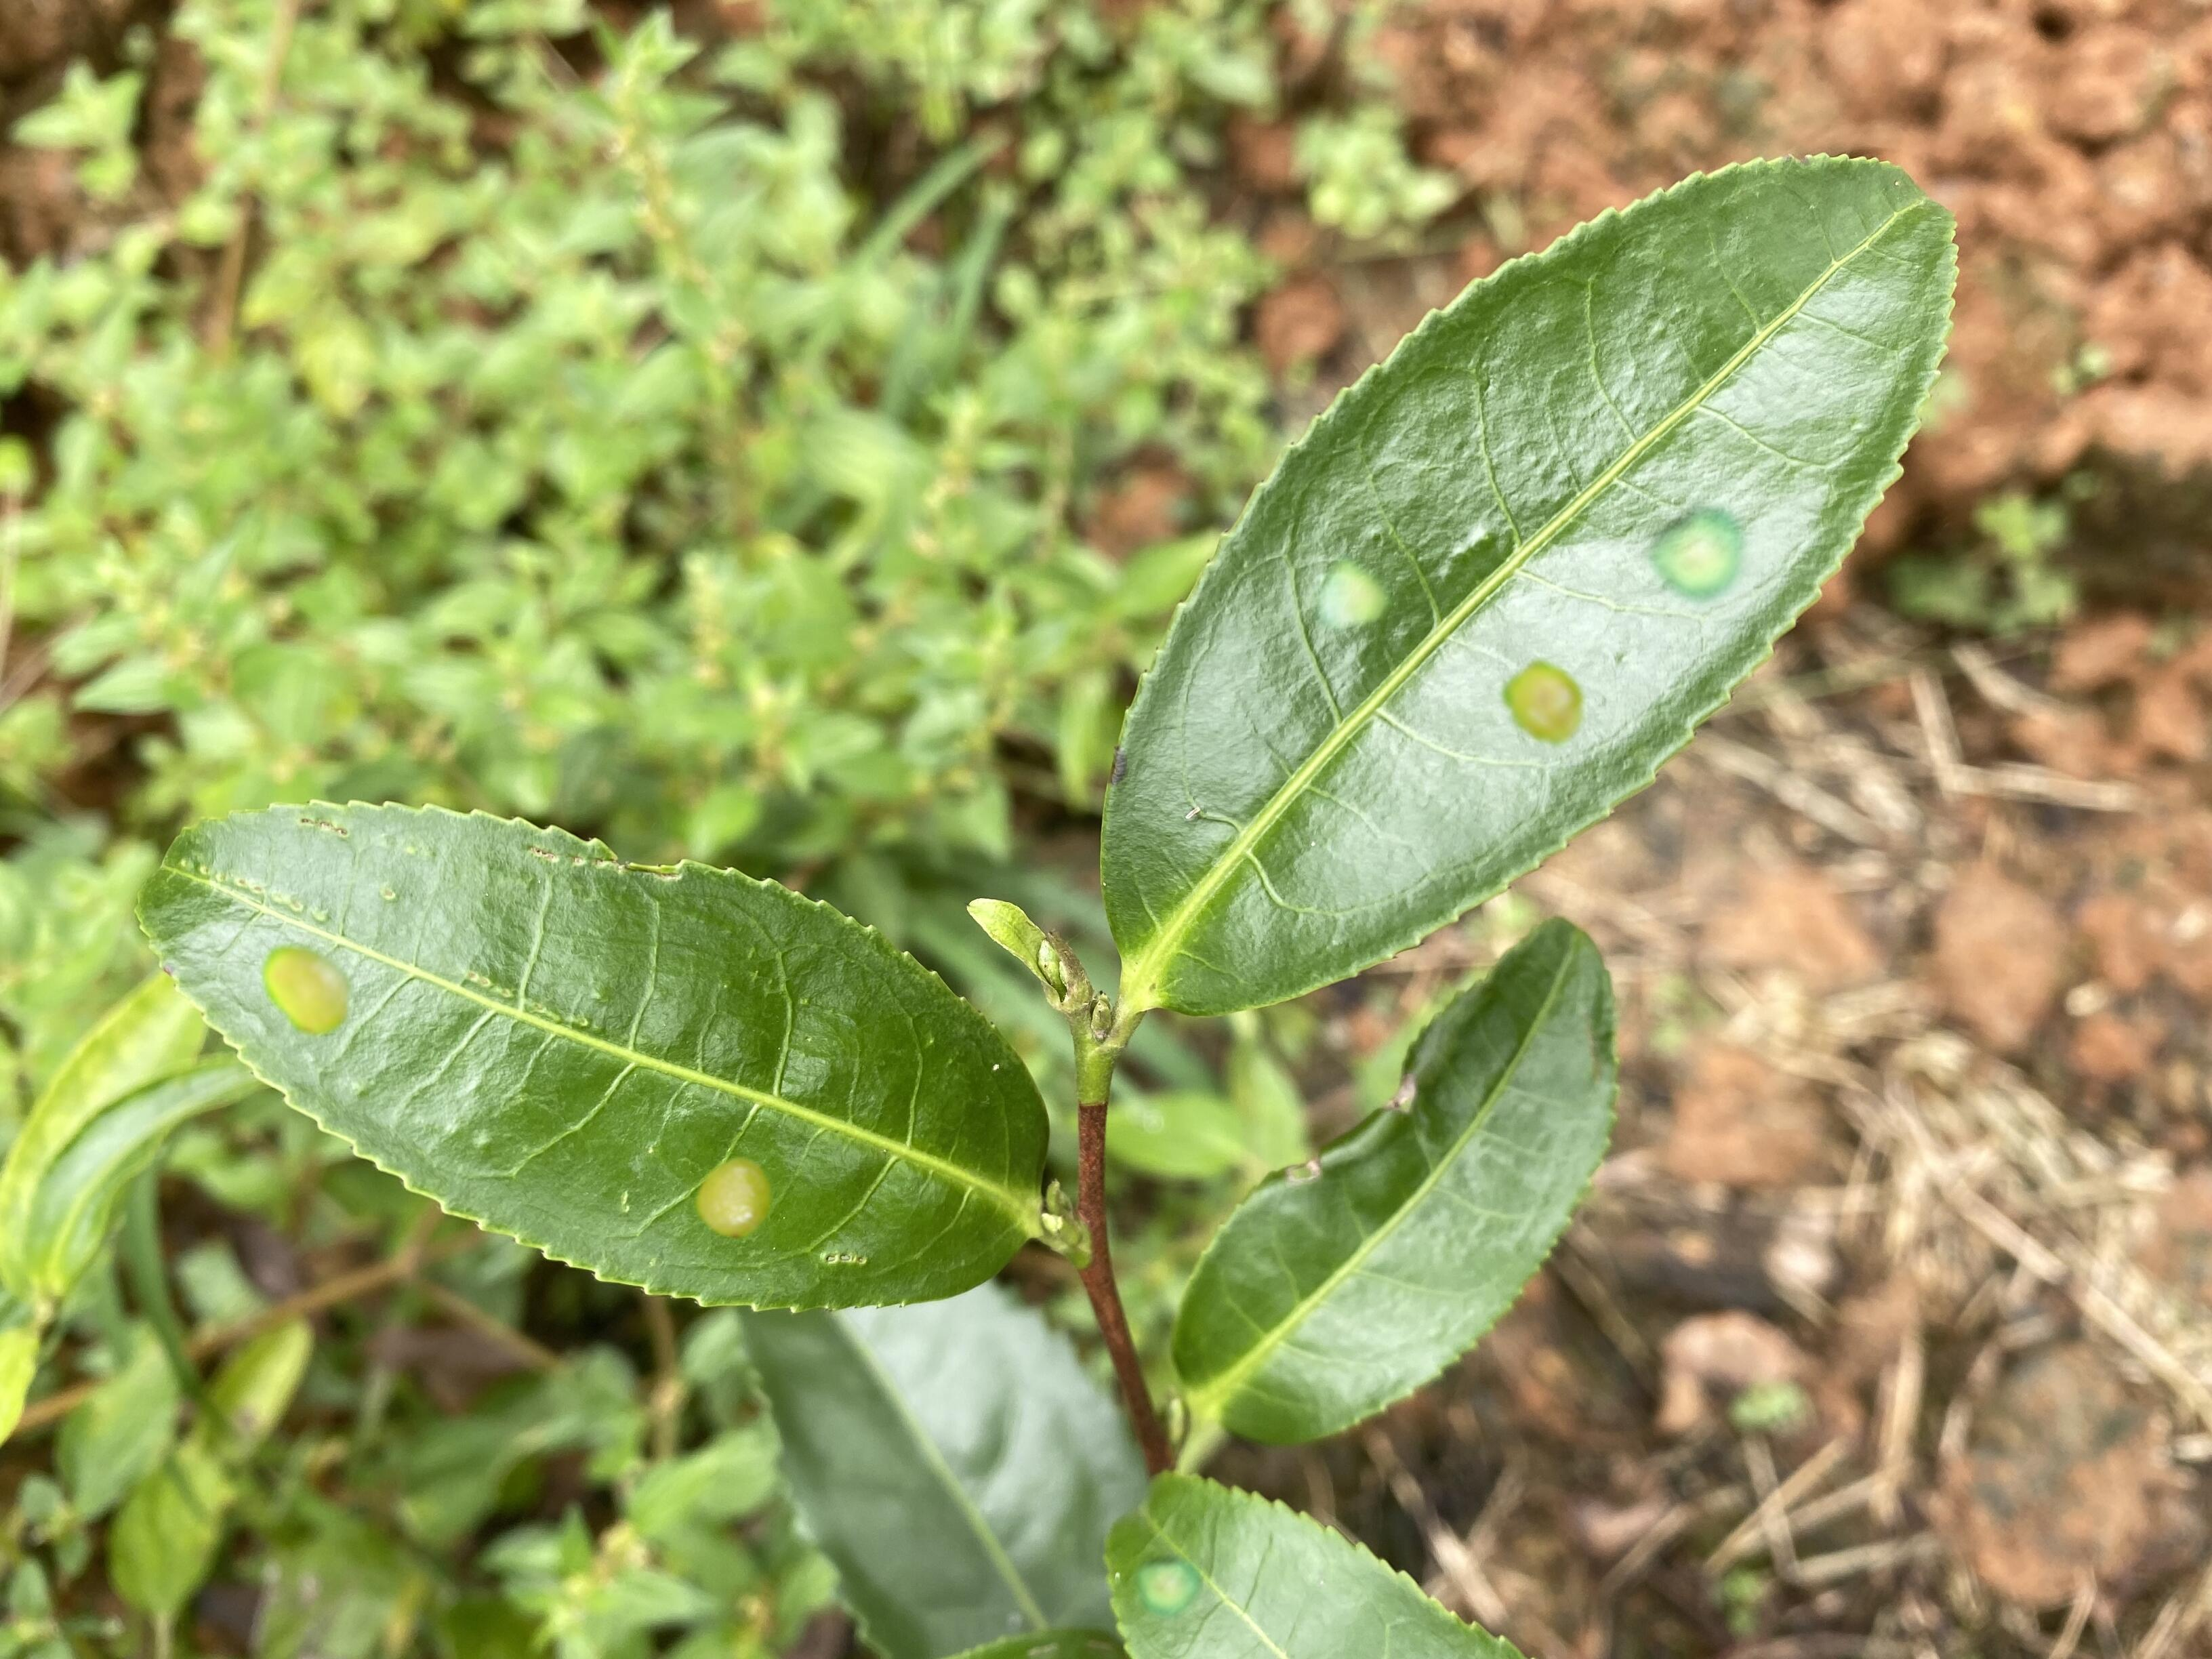chabing_high: (1097, 153, 1965, 1021), (132, 800, 1054, 1314)
chabing_low: (1099, 1469, 1540, 1656)
tanju_low: (1163, 917, 1620, 1450)
